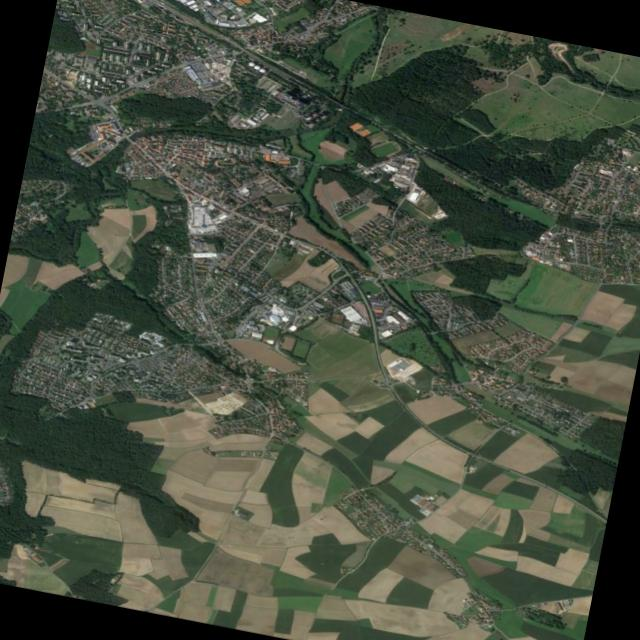storage-tank: (247, 60, 254, 67), (253, 63, 260, 70), (258, 67, 265, 73)
